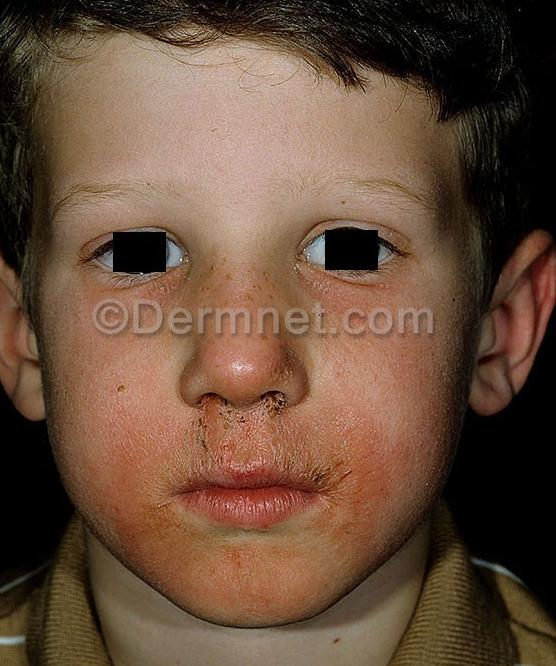exudacion 1: (184, 390, 294, 458)
exudacion 2: (48, 280, 484, 607)
